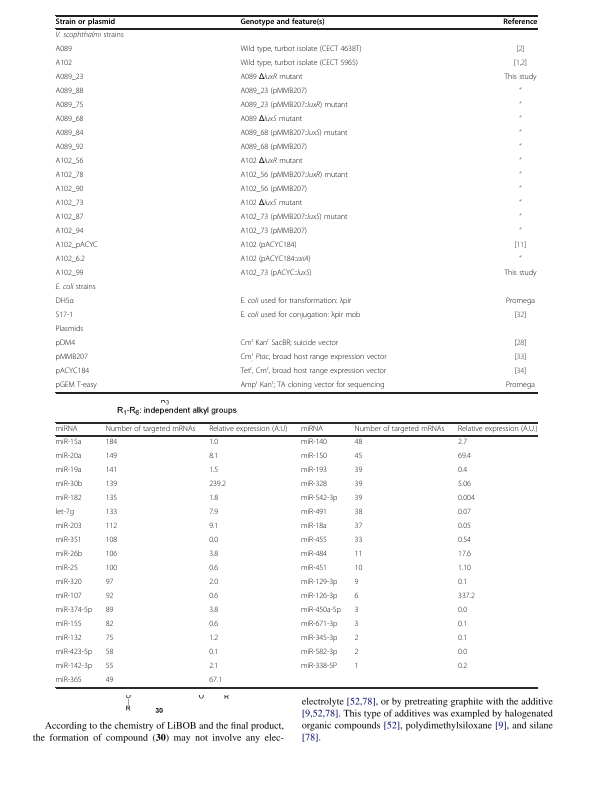borderless: (54, 14, 537, 392), (54, 421, 537, 687)
cell: (239, 351, 387, 363), (239, 365, 387, 377), (239, 379, 385, 391), (239, 45, 362, 55), (239, 311, 361, 321), (239, 59, 359, 69), (239, 337, 339, 349), (239, 297, 352, 307), (239, 101, 349, 111), (239, 171, 349, 181), (239, 129, 348, 139), (239, 213, 348, 223), (353, 425, 445, 434), (105, 425, 196, 434), (239, 18, 326, 27), (239, 269, 312, 279), (457, 425, 538, 434), (208, 425, 288, 434), (239, 255, 311, 265), (55, 31, 125, 41), (239, 87, 308, 97), (239, 143, 308, 153), (239, 185, 308, 195), (239, 227, 308, 237), (239, 73, 303, 83), (239, 115, 303, 125), (239, 157, 303, 167), (239, 199, 303, 209), (239, 241, 297, 251), (55, 18, 116, 27), (55, 241, 99, 251), (55, 381, 98, 391), (300, 606, 342, 616), (55, 283, 97, 293), (300, 494, 338, 504), (300, 578, 338, 588), (300, 592, 338, 602), (55, 606, 93, 616), (300, 620, 338, 630), (300, 634, 338, 644), (55, 648, 93, 658), (300, 648, 338, 658), (55, 662, 93, 672), (300, 662, 338, 672), (55, 367, 90, 377), (503, 73, 537, 83), (503, 269, 537, 279), (55, 353, 89, 363), (502, 18, 538, 27), (55, 255, 86, 265), (505, 297, 536, 307), (505, 381, 536, 391), (55, 73, 84, 83), (55, 87, 84, 97), (55, 101, 84, 111), (55, 115, 84, 125), (55, 129, 84, 139), (55, 143, 84, 153), (55, 157, 84, 167), (55, 171, 84, 181), (55, 185, 84, 195), (55, 199, 84, 209), (55, 213, 84, 223), (55, 227, 84, 237), (55, 269, 84, 279), (55, 325, 84, 335), (300, 438, 328, 448), (300, 452, 328, 462), (300, 466, 328, 476), (55, 480, 83, 490), (300, 480, 328, 490), (300, 508, 328, 518), (300, 522, 328, 532), (300, 536, 328, 546), (55, 550, 83, 560), (300, 550, 328, 560), (300, 564, 328, 574), (55, 438, 82, 448), (55, 452, 82, 462), (55, 466, 82, 476), (55, 494, 82, 504), (55, 522, 82, 532), (55, 536, 82, 546), (55, 578, 82, 588), (55, 592, 82, 602), (55, 620, 82, 630), (55, 634, 82, 644), (55, 676, 82, 686), (55, 564, 79, 574), (300, 425, 324, 434), (55, 339, 76, 349), (55, 425, 78, 434), (55, 508, 75, 518), (55, 297, 75, 307), (208, 480, 227, 490), (457, 494, 476, 504), (457, 592, 476, 602), (55, 311, 74, 321), (55, 45, 73, 55), (55, 59, 73, 69), (457, 452, 472, 462), (457, 480, 472, 490), (457, 508, 472, 518), (457, 522, 472, 532), (457, 536, 472, 546), (457, 550, 472, 560), (457, 564, 472, 574), (208, 676, 223, 686), (513, 59, 528, 69), (513, 241, 527, 251), (513, 311, 527, 321), (513, 339, 527, 349), (513, 353, 527, 363), (513, 367, 527, 377), (105, 438, 118, 448), (105, 452, 118, 462), (105, 466, 118, 476), (105, 480, 118, 490), (105, 494, 118, 504), (105, 508, 118, 518), (105, 522, 118, 532), (105, 536, 118, 546), (105, 550, 118, 560), (105, 564, 118, 574), (208, 438, 219, 448), (457, 438, 468, 448), (208, 452, 219, 462), (208, 466, 219, 476), (457, 466, 468, 476), (208, 494, 219, 504), (208, 508, 219, 518), (208, 522, 219, 532), (208, 536, 219, 546), (208, 550, 219, 560), (208, 564, 219, 574), (208, 578, 219, 588), (457, 578, 468, 588), (208, 592, 219, 602), (208, 606, 219, 616), (457, 606, 468, 616), (208, 620, 219, 630), (457, 620, 468, 630), (208, 634, 219, 644), (457, 634, 468, 644), (208, 648, 219, 658), (457, 648, 468, 658), (208, 662, 219, 672), (457, 662, 468, 672), (353, 438, 363, 448), (353, 452, 363, 462), (353, 466, 363, 476), (353, 480, 363, 490), (353, 494, 363, 504), (353, 508, 363, 518), (353, 522, 363, 532), (353, 536, 363, 546), (353, 550, 363, 560), (353, 564, 363, 574), (515, 45, 525, 55), (105, 578, 114, 588), (105, 592, 114, 602), (105, 606, 114, 616), (105, 620, 114, 630), (105, 634, 114, 644), (105, 648, 114, 658), (105, 662, 114, 672), (105, 676, 114, 686), (353, 578, 359, 588), (353, 592, 359, 602), (353, 606, 359, 616), (353, 620, 359, 630), (353, 634, 359, 644), (353, 648, 359, 658), (353, 662, 359, 672), (518, 87, 522, 95), (518, 101, 522, 109), (518, 115, 522, 123), (518, 129, 522, 137), (518, 143, 522, 151), (518, 157, 522, 165), (518, 171, 522, 179), (518, 185, 522, 193), (518, 199, 522, 207), (518, 213, 522, 221), (518, 227, 522, 235), (518, 255, 522, 263)
